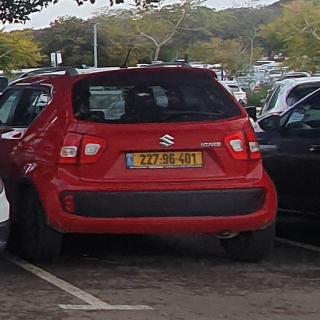LicensePlate: (134, 152, 201, 165)
